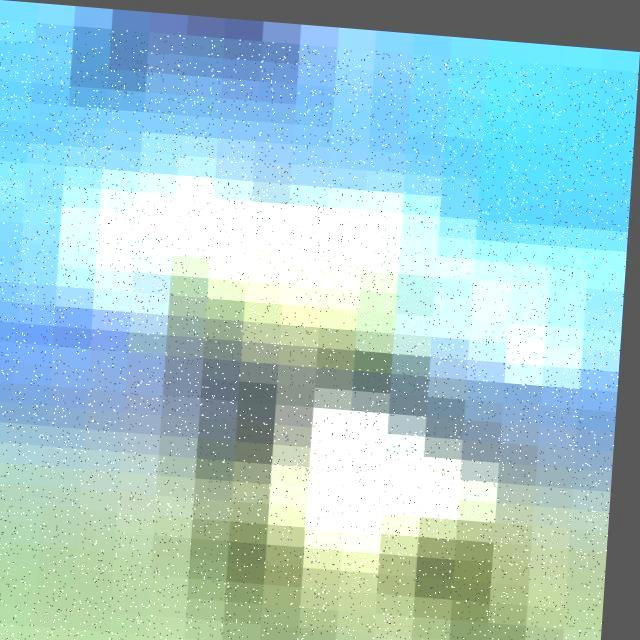arbitre: (0, 20, 639, 640)
